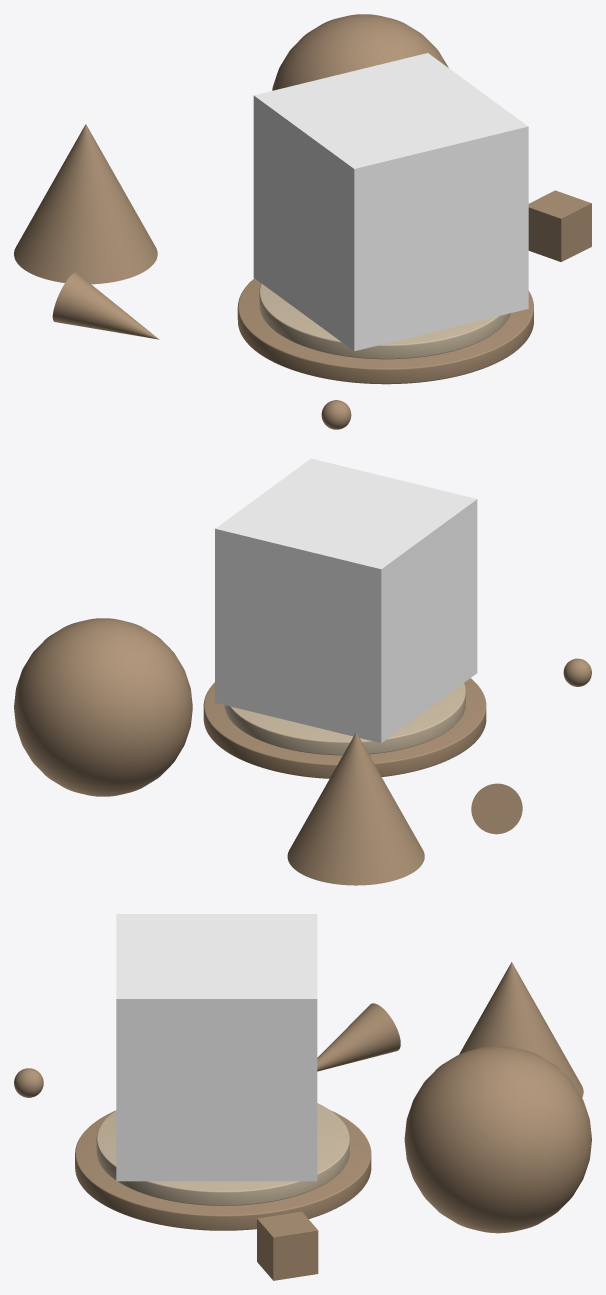
The model's file is podium_geometrys.glb.
The picture shows the model from 3 angles, top to bottom: view 1: azimuth 30°, elevation 25°; view 2: azimuth 150°, elevation 25°; view 3: azimuth 270°, elevation 25°; orthographic projection. The views are drawn at different scales.
Visible parts, largest first — view 1: placeholder, Cone, Cylinder, Sphere, Cylinder001, Cube, Cone001, Sphere001; view 2: placeholder, Sphere, Cone, Cylinder, Cylinder001, Cone001, Sphere001; view 3: placeholder, Sphere, Cylinder, Cylinder001, Cone, Cube, Cone001, Sphere001.
Boxes of the visible parts, x1,y1,x2,y2 form: placeholder: (253,53,528,351); Cone: (14,124,157,284); Cylinder: (237,278,533,384); Sphere: (272,14,448,90); Cylinder001: (259,283,510,359); Cube: (528,190,591,261); Cone001: (52,272,159,339); Sphere001: (321,400,351,429); placeholder: (215,458,477,743); Sphere: (14,618,192,796); Cone: (287,732,424,885); Cylinder: (203,678,486,778); Cylinder001: (224,683,465,755); Cone001: (471,783,522,834); Sphere001: (563,658,591,686); placeholder: (116,914,317,1181); Sphere: (404,1046,591,1233); Cylinder: (75,1110,371,1230); Cylinder001: (96,1103,349,1205); Cone: (459,962,583,1097); Cube: (257,1211,318,1280); Cone001: (317,1003,400,1071); Sphere001: (14,1068,43,1097).
Size of the model in its own units: 2.43 by 1.01 by 2.48.
